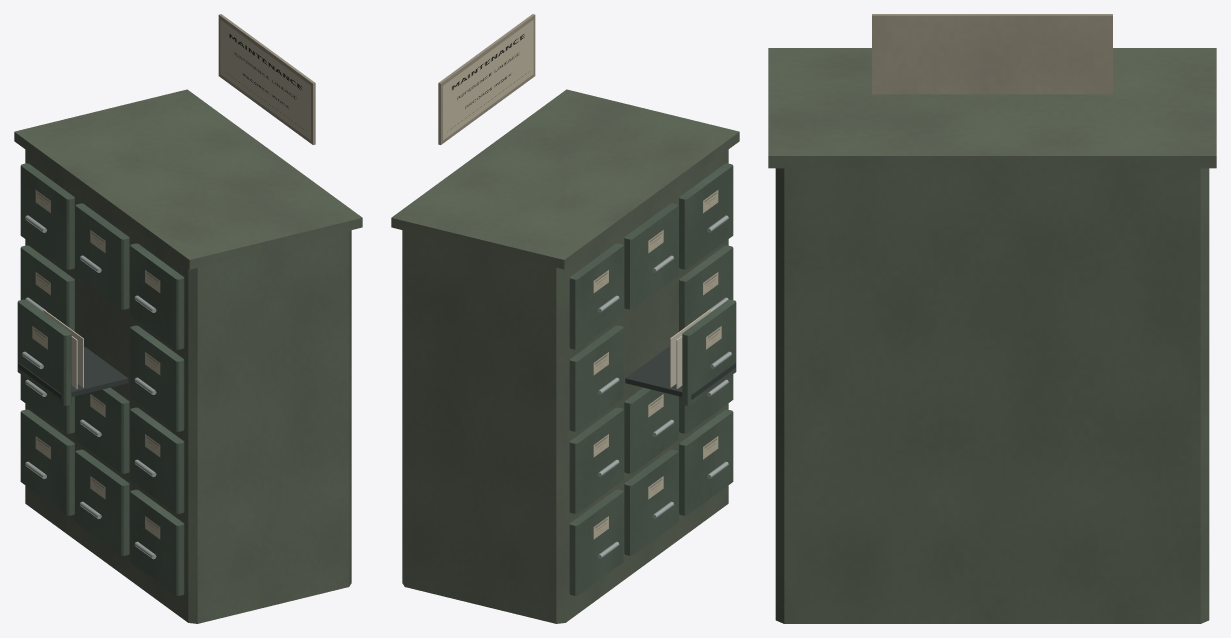
The model's file is SM_ArchiveProps_CardIndex_LOD2.fbx.
The picture shows the model from 3 angles, left to right: view 1: azimuth 30°, elevation 25°; view 2: azimuth 150°, elevation 25°; view 3: azimuth 270°, elevation 25°; orthographic projection. The views are drawn at different scales.
Parts seen in each view (by area): view 1: SM_ArchiveProps_CardIndex_LOD2; view 2: SM_ArchiveProps_CardIndex_LOD2; view 3: SM_ArchiveProps_CardIndex_LOD2.
Part boxes in pixels (x1,y1,x2,y2): SM_ArchiveProps_CardIndex_LOD2: [14, 14, 362, 623]; SM_ArchiveProps_CardIndex_LOD2: [391, 14, 739, 623]; SM_ArchiveProps_CardIndex_LOD2: [768, 14, 1216, 623].
Bounding box in the file's own units: 0.748 × 0.93 × 1.39.
